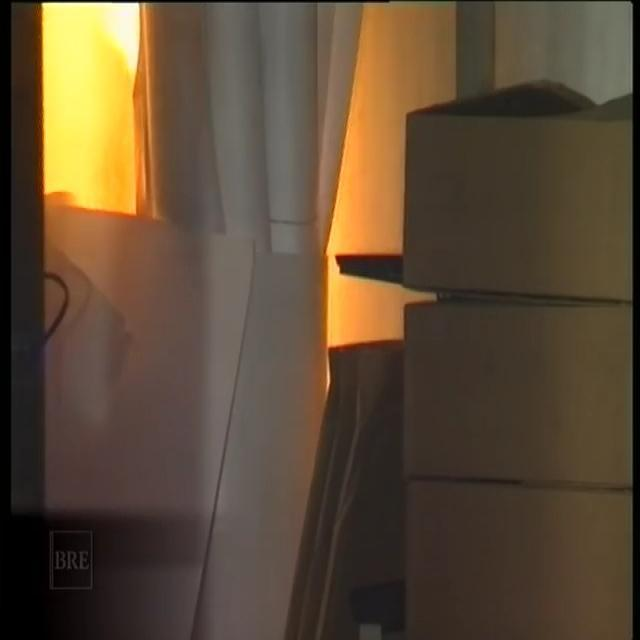Fire: (44, 2, 137, 206)
